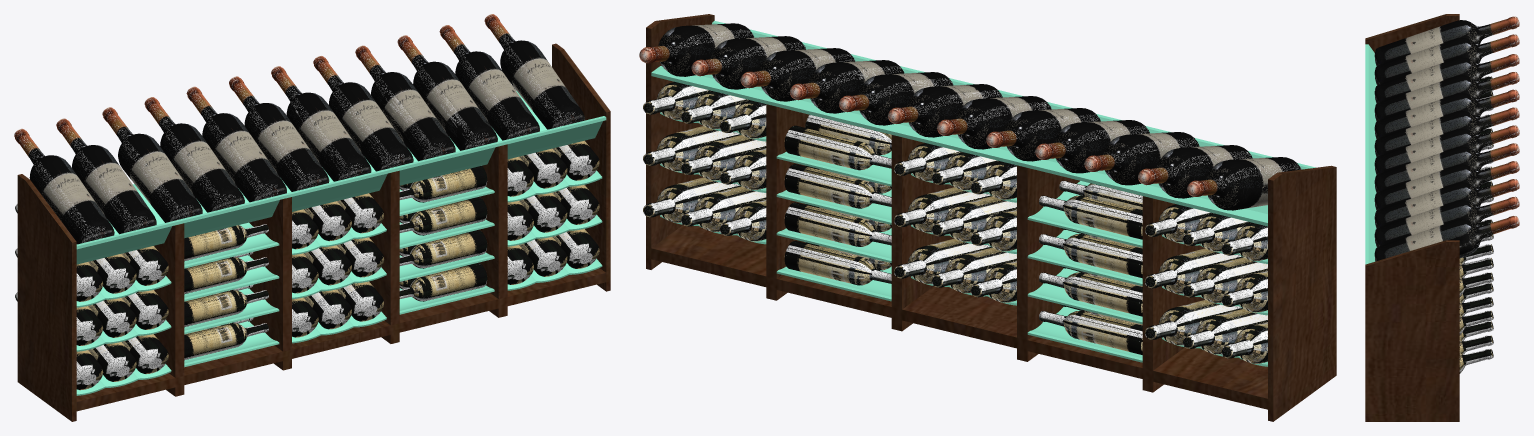
The model's file is wine.dae.
The picture shows the model from 3 angles, left to right: view 1: azimuth 30°, elevation 25°; view 2: azimuth 150°, elevation 25°; view 3: azimuth 270°, elevation 25°; orthographic projection. The views are drawn at different scales.
Parts seen in each view (by area): view 1: group_1 (×12), ID75 (×31), Component_6 (×2), Component_17 (×4), Component_23, Component_16 (×2), Component_4 (×8), ID185 (×4); view 2: ID75 (×32), group_1 (×12), Component_6 (×2), Component_16 (×2), Component_17 (×4), ID185 (×5), Component_4 (×8), Component_23; view 3: group_1 (×12), Component_6 (×2), ID75 (×9), Component_23.
Part boxes in pixels (x1,y1,x2,y2): group_1 (×12): [14, 14, 584, 244]; ID75 (×31): [15, 85, 599, 390]; Component_6 (×2): [17, 43, 610, 421]; Component_17 (×4): [154, 144, 507, 377]; Component_23: [76, 91, 606, 264]; Component_16 (×2): [76, 268, 606, 411]; Component_4 (×8): [184, 186, 494, 367]; ID185 (×4): [184, 224, 268, 360]; ID75 (×32): [643, 82, 1267, 363]; group_1 (×12): [639, 23, 1301, 210]; Component_6 (×2): [646, 14, 1336, 421]; Component_16 (×2): [651, 225, 1267, 409]; Component_17 (×4): [766, 104, 1204, 370]; ID185 (×5): [1039, 180, 1142, 354]; Component_4 (×8): [776, 151, 1142, 362]; Component_23: [651, 20, 1315, 226]; group_1 (×12): [1374, 16, 1519, 261]; Component_6 (×2): [1365, 14, 1459, 421]; ID75 (×9): [1459, 244, 1493, 373]; Component_23: [1365, 44, 1376, 264].
Bounding box in the file's own units: 120 × 34.35 × 47.05.
5 materials, 3 textured.
